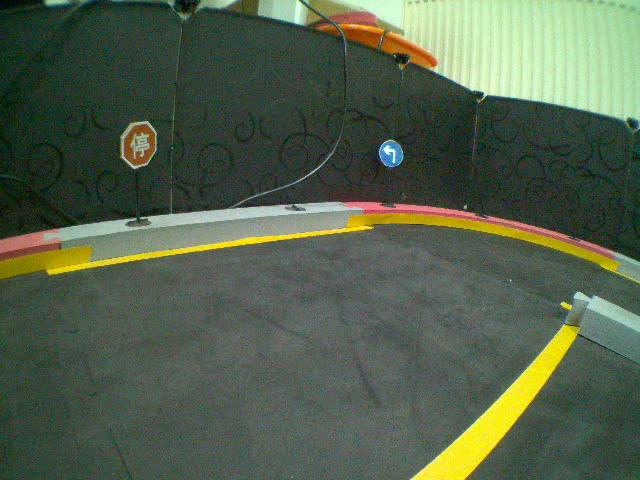Stop: (117, 117, 157, 169)
turn: (377, 139, 405, 168)
